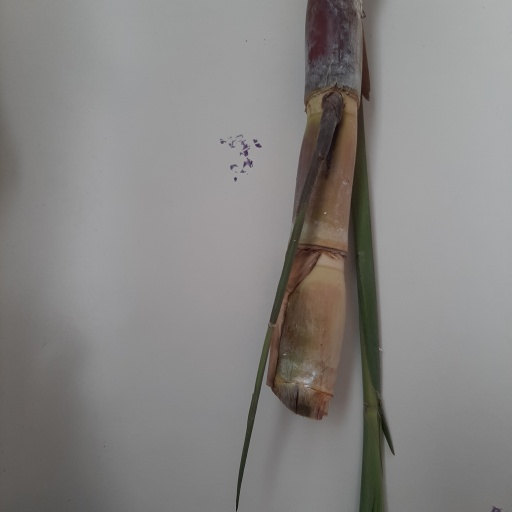Sprouted_Bud: (318, 90, 346, 151)
